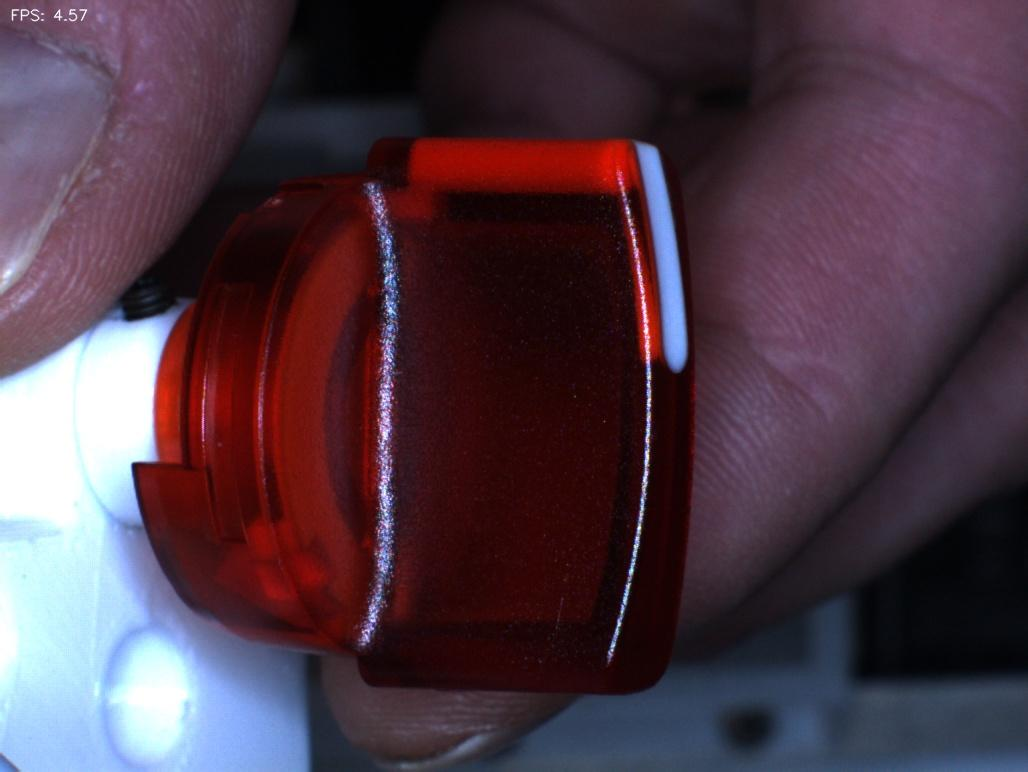Givrage: (515, 559, 601, 670)
